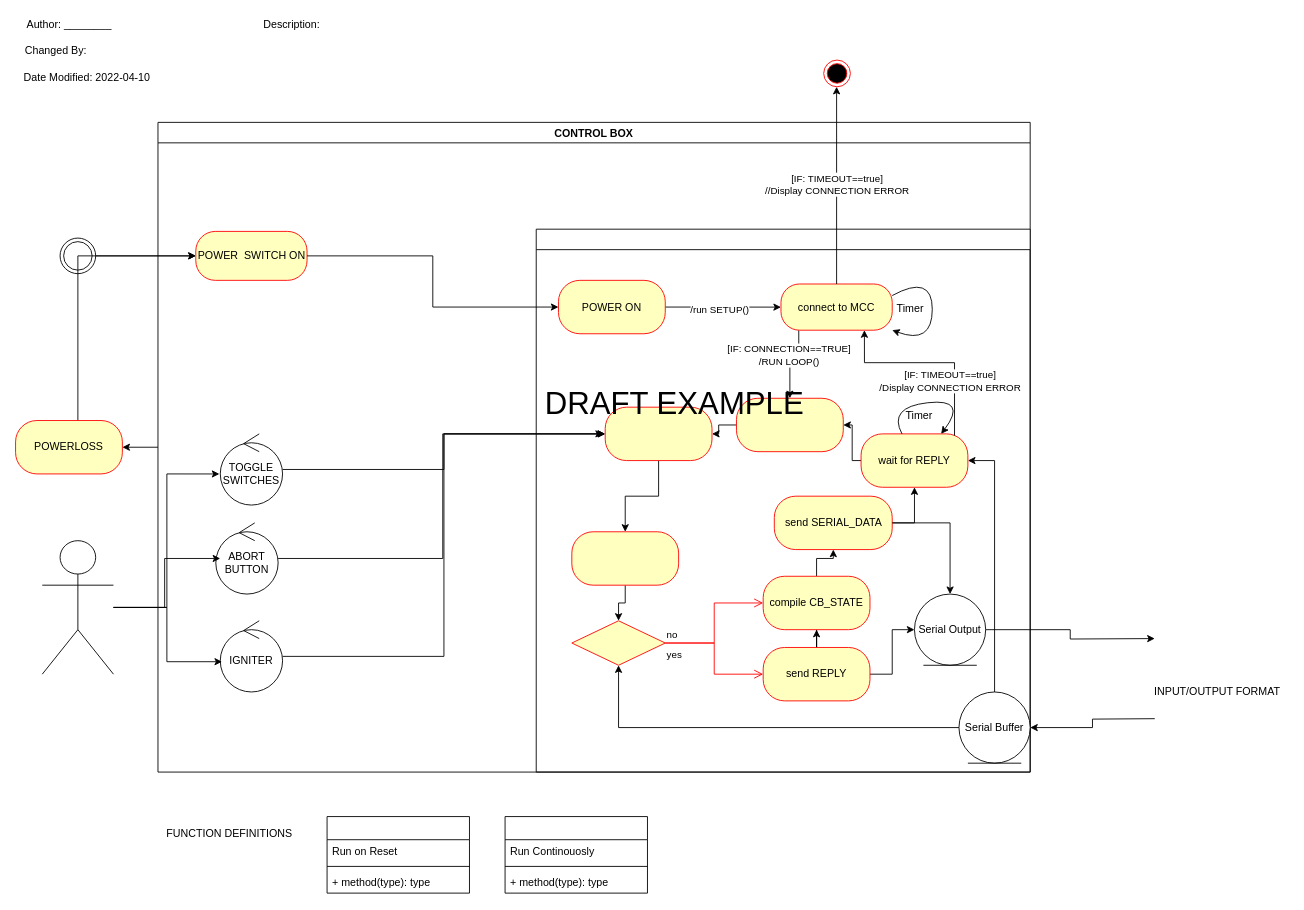
The diagram is 1304 pixels wide and 910 high, and some of its shapes have lost their labels. Here are the shapes that lost their labels. From the top down, the box of each, then its label:
(604, 406, 712, 461): check INPUTS
(736, 397, 843, 452): display DATA
(535, 228, 1030, 772): Arduino-Control Box
(41, 540, 113, 674): USER
(571, 620, 665, 665): Serial.Available
(326, 816, 469, 893): SETUP()
(504, 816, 647, 893): LOOP()
